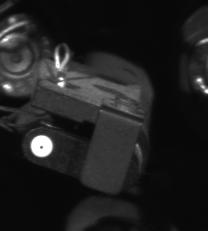fiber: (28, 132, 56, 160)
